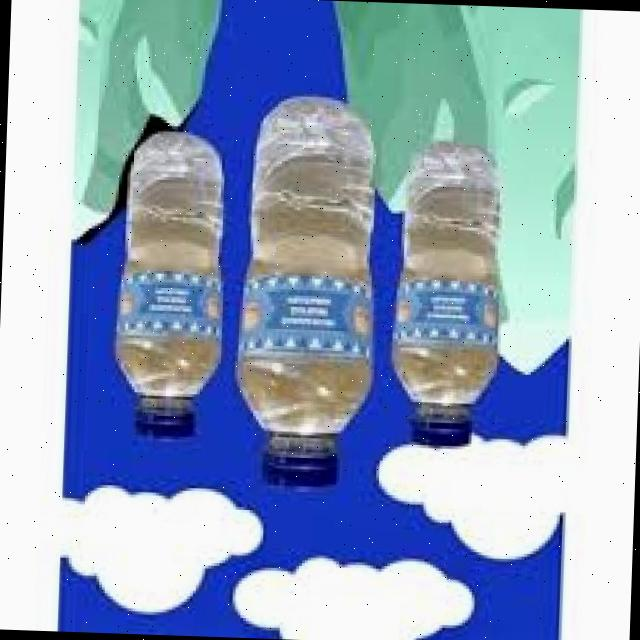bottle: (235, 88, 391, 500), (109, 134, 240, 468), (387, 132, 510, 456)
cap: (260, 450, 344, 494), (404, 415, 476, 454), (127, 412, 195, 446)
label: (241, 276, 381, 362), (113, 260, 237, 338), (388, 278, 506, 351)
